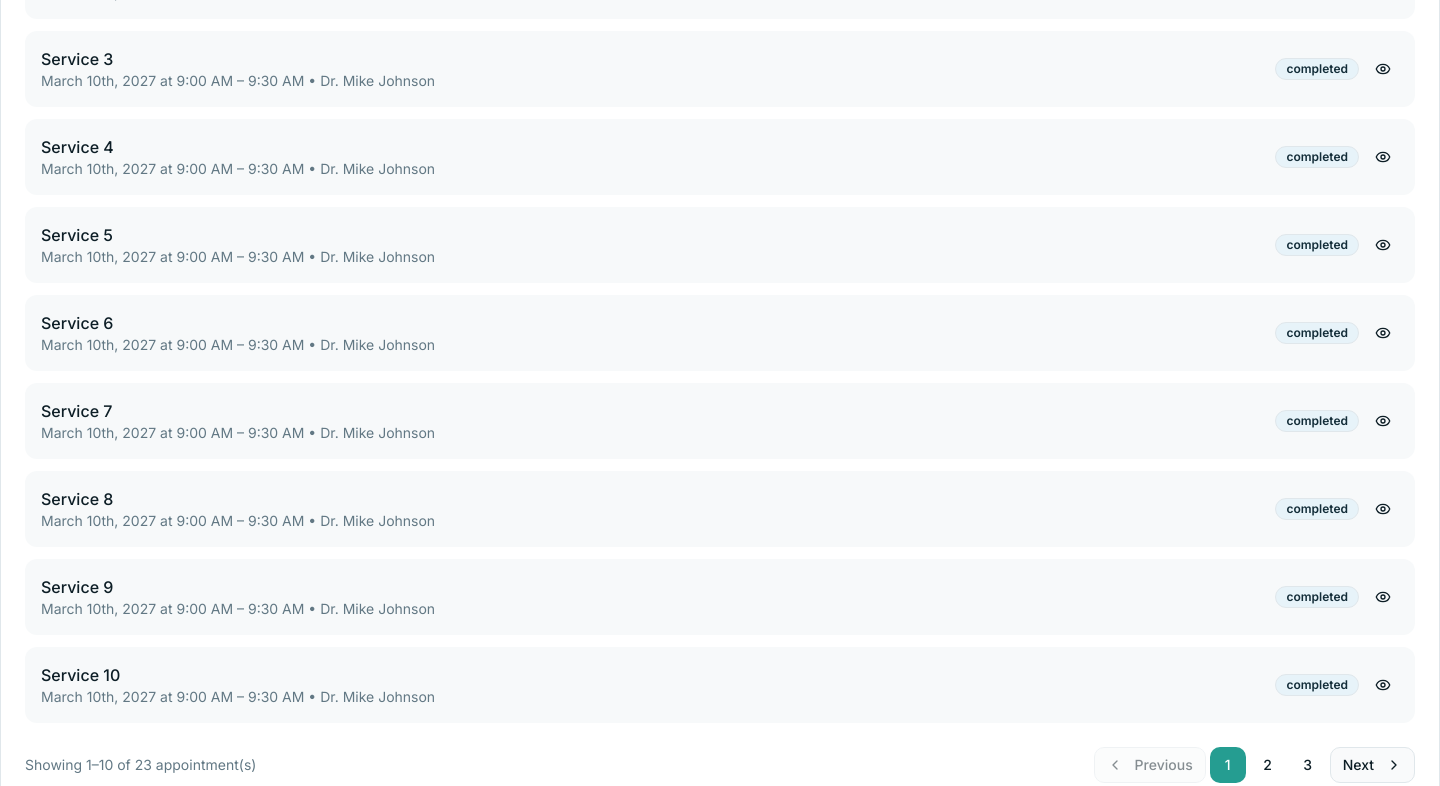
Test: My Appointments, one page at a time › moves with Previous and Next, and stops at both ends
The image size is (1440, 786).
(page scrolled)
expect the button with aria-label "Previous page" is disabled: met, box [1094,747,1206,783]
Click the button with aria-label "Next page" at (1372, 765), box [1330,747,1415,783]
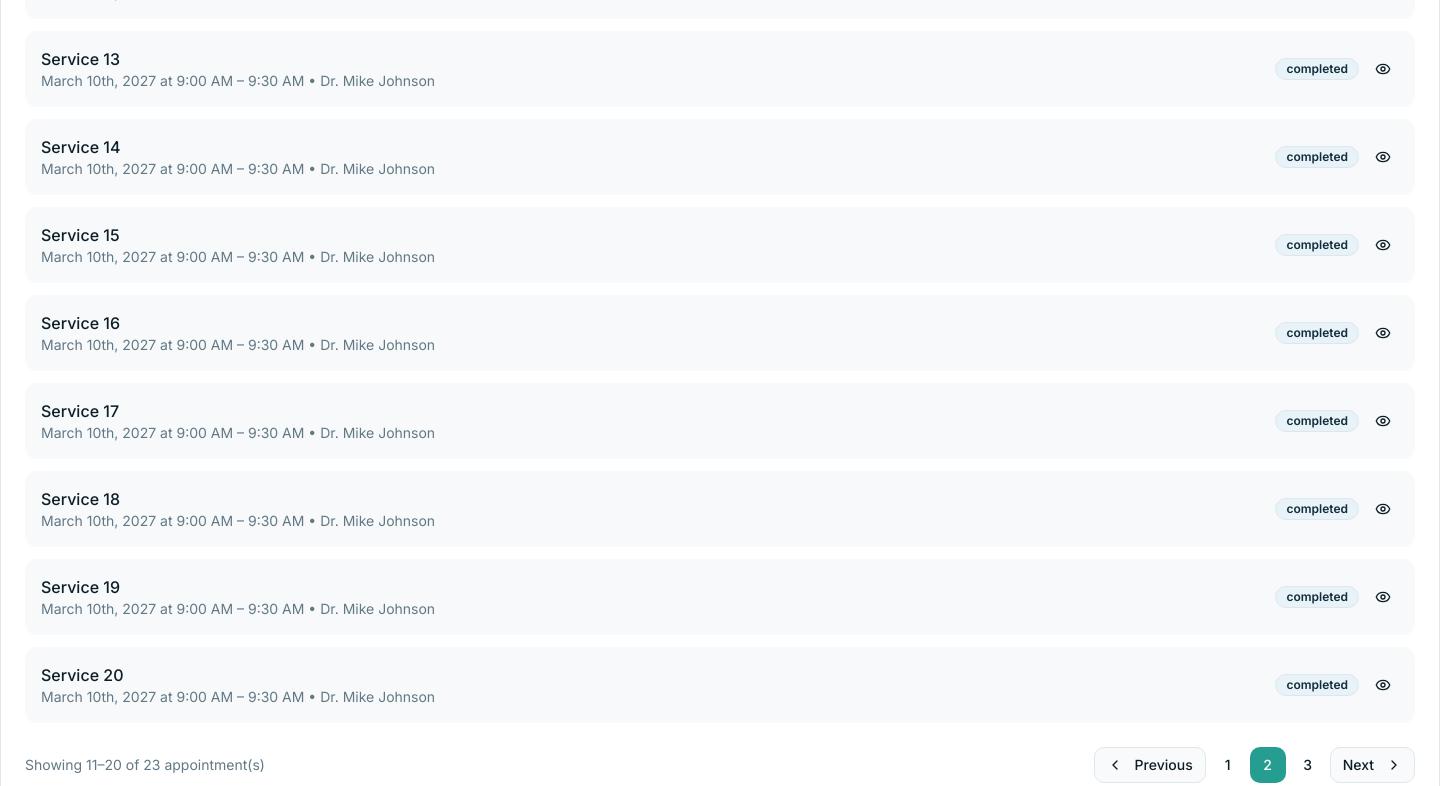
expect the button with aria-label "Previous page" is enabled: met, box [1094,747,1206,783]
Click the button with aria-label "Next page" at (1372, 765), box [1330,747,1415,783]
(page scrolled)
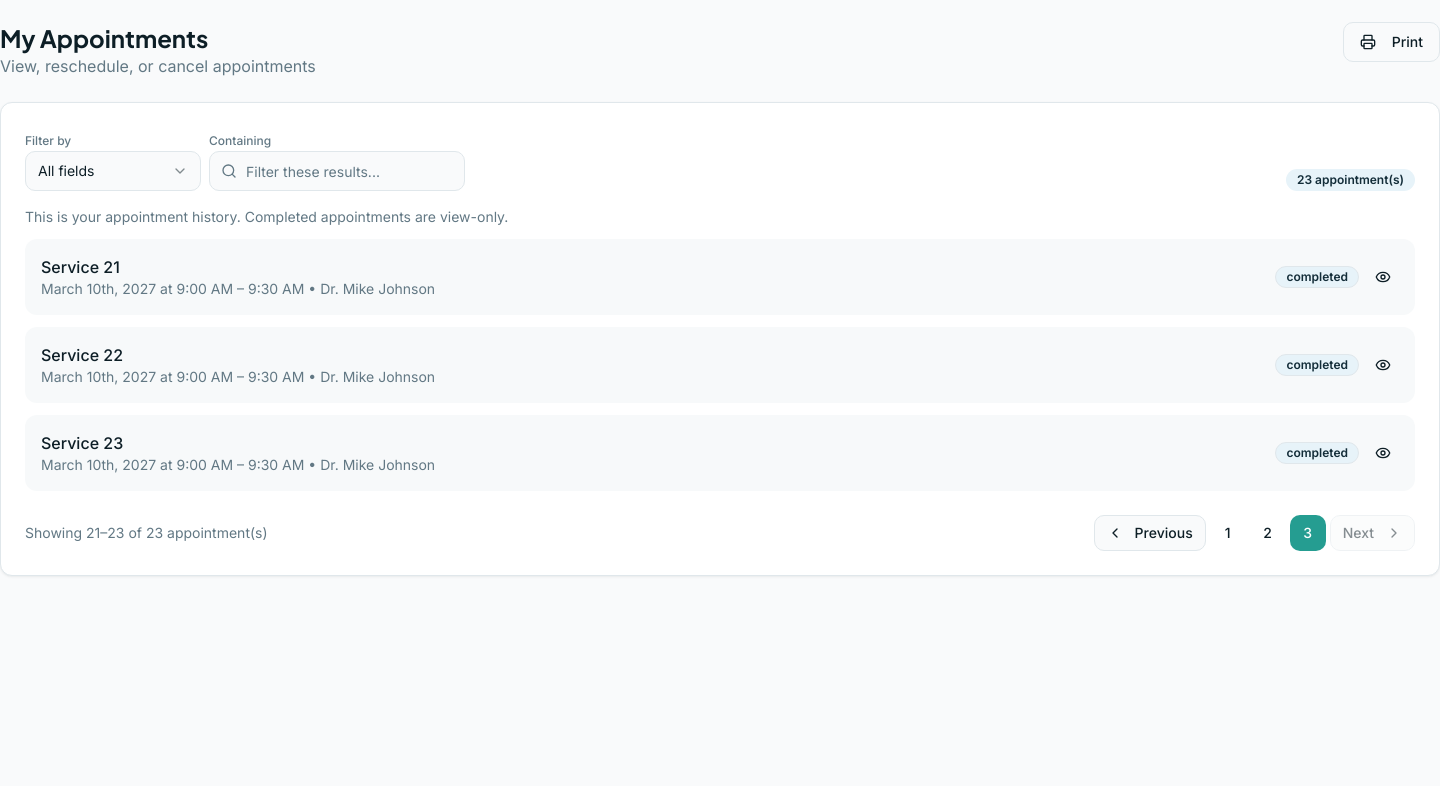
expect the text "Service 21" is shown: met, box [41,257,120,277]
expect the button with aria-label "Next page" is disabled: met, box [1330,515,1415,551]
Click the button with aria-label "Previous page" at (1150, 533), box [1094,515,1206,551]
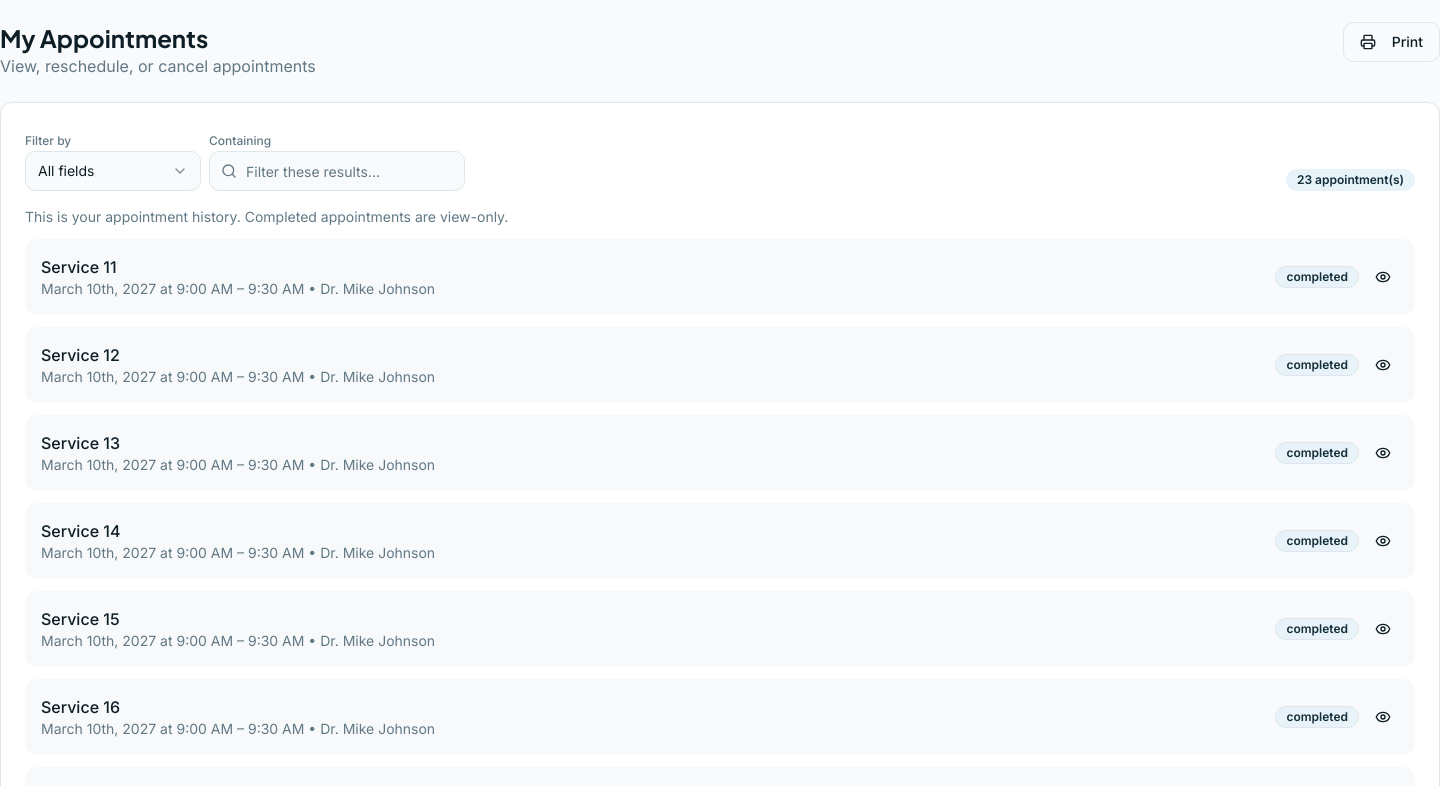
expect the text "Service 11" is shown: met, box [41,257,117,277]
